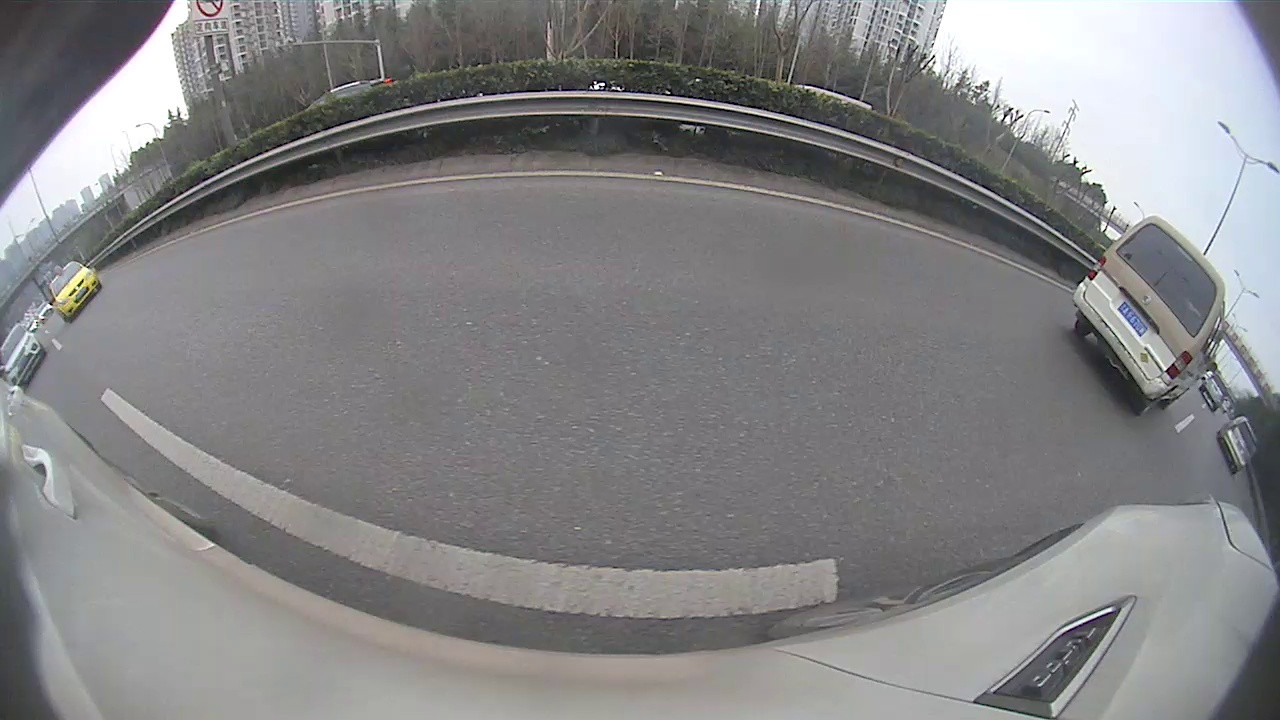car: (1069, 212, 1227, 414), (50, 261, 103, 321), (2, 327, 48, 392), (1216, 418, 1264, 474), (1203, 371, 1229, 410)
